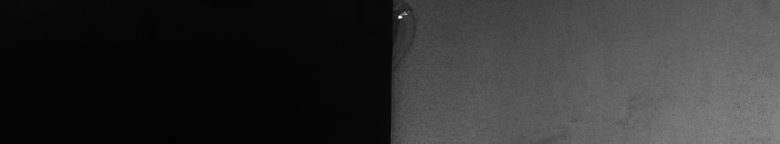hb: (404, 4, 415, 44)
